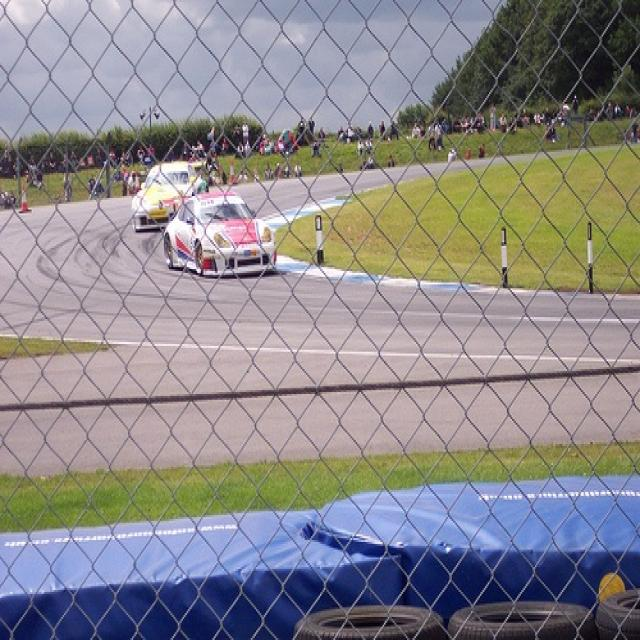car: (163, 190, 279, 283), (132, 156, 212, 230)
